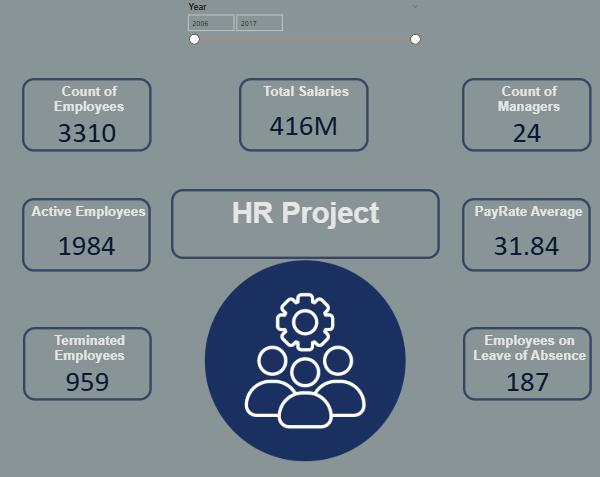

The page's visual inventory and layout, read from the dashboard file:
{"tool":"powerbi","page":{"name":"Cover","canvas":[1500,1200],"ordinal":0},"visuals":[{"type":"textbox","box":[428,472,671.6,175],"z":0,"group":"g1"},{"type":"card","title":"Active Employees","fields":{"Values":["Count(HR main table.EmpID)"]},"box":[56,494,322,184],"z":0},{"type":"card","title":"Terminated Employees","fields":{"Values":["Count(HR main table.EmpID)"]},"box":[58,818,322,184],"z":1000},{"type":"card","title":"Count of Employees","fields":{"Values":["Count(HR main table.EmpID)"]},"box":[56,194,324,184],"z":2000},{"type":"card","title":"Count of Managers","fields":{"Values":["Count(HR main table.ManagerID)"]},"box":[1156,194,324,184],"z":3000},{"type":"image","box":[501,640,525.5,523.6],"z":4000,"group":"g1"},{"type":"card","title":"Total Salaries","fields":{"Values":["Sum(HR main table.Salary)"]},"box":[598,194,324,184],"z":4000},{"type":"group","id":"g1","title":"Group 1","box":[428,472,672,692],"z":5000},{"type":"card","title":"PayRate Average","fields":{"Values":["Avg(HR main table.New PayRate (hour))"]},"box":[1156,494,322,184],"z":6000},{"type":"card","title":"Employees on Leave of Absence ","fields":{"Values":["Count(HR main table.EmpID)"]},"box":[1158,818,322,184],"z":7000},{"type":"slicer","fields":{"Values":["HR main table.DateofHire.Variation.Date Hierarchy.Year"]},"box":[458,0,602,162],"z":8000}]}

Visuals, with their boxes in screenshot pixels (x1, y1, x2, y2), scaled from the page's 1500x1200 canvas onto the 600x477 screenshot:
textbox: rect(171, 188, 440, 257)
"Active Employees" card: rect(22, 196, 151, 270)
"Terminated Employees" card: rect(23, 325, 152, 398)
"Count of Employees" card: rect(22, 77, 152, 150)
"Count of Managers" card: rect(462, 77, 592, 150)
image: rect(200, 254, 411, 463)
"Total Salaries" card: rect(239, 77, 369, 150)
"Group 1" group: rect(171, 188, 440, 463)
"PayRate Average" card: rect(462, 196, 591, 270)
"Employees on Leave of Absence " card: rect(463, 325, 592, 398)
slicer - HR main table.DateofHire.Variation.Date Hierarchy.Year: rect(183, 0, 424, 64)
